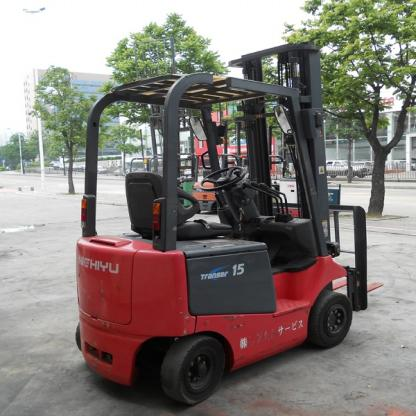forklift: (74, 73, 368, 406)
